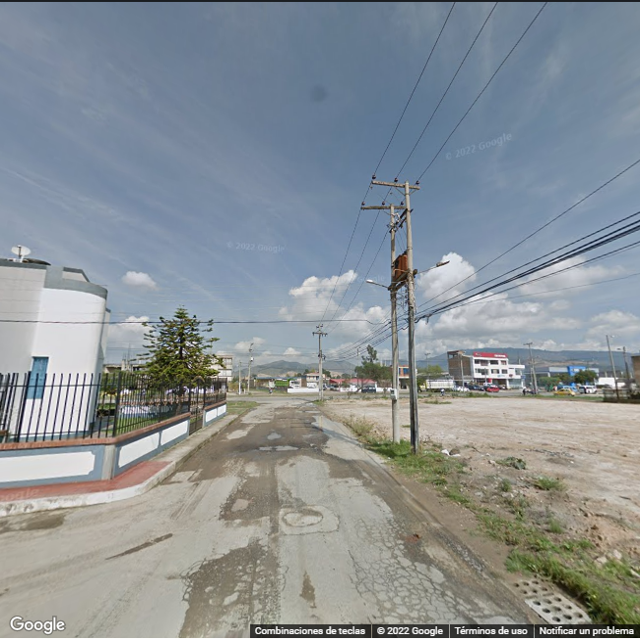D00: (279, 558, 291, 596)
D20: (343, 548, 466, 621)
D40: (227, 489, 255, 513)
